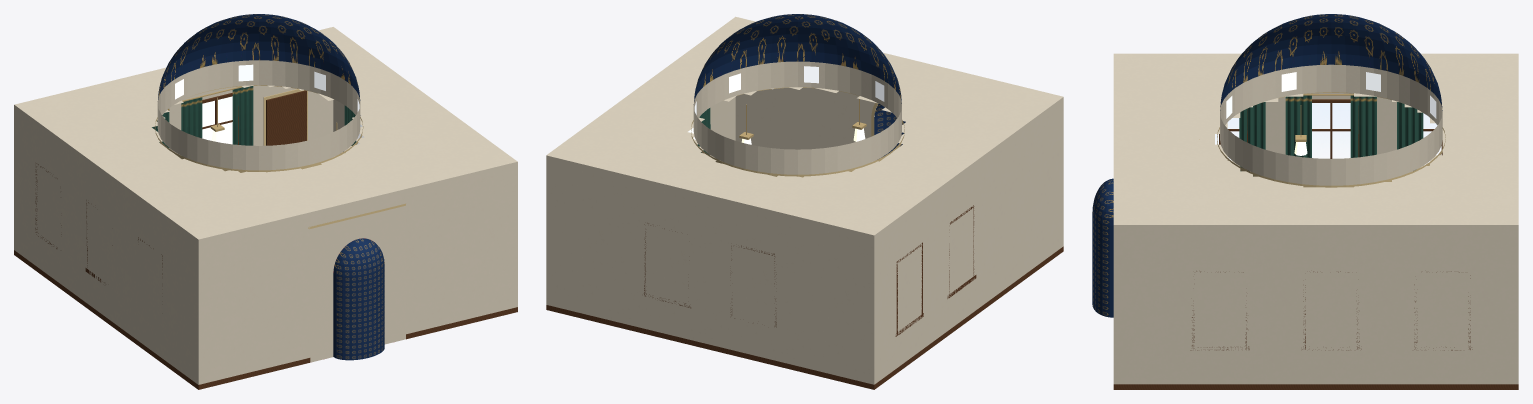
Rendered from room.glb.
3 views of the same model, side by side, from view 1: azimuth 30°, elevation 25°; view 2: azimuth 150°, elevation 25°; view 3: azimuth 270°, elevation 25° (orthographic). The views are drawn at different scales.
Visible parts, largest first — view 1: Room; view 2: Room; view 3: Room.
Part boxes in pixels (bbox=[...]): Room: bbox=[14, 14, 517, 389]; Room: bbox=[546, 14, 1063, 389]; Room: bbox=[1092, 14, 1518, 389].
Bounding box in the file's own units: 8 × 6.07 × 8.42.
9 materials, 5 textured.
